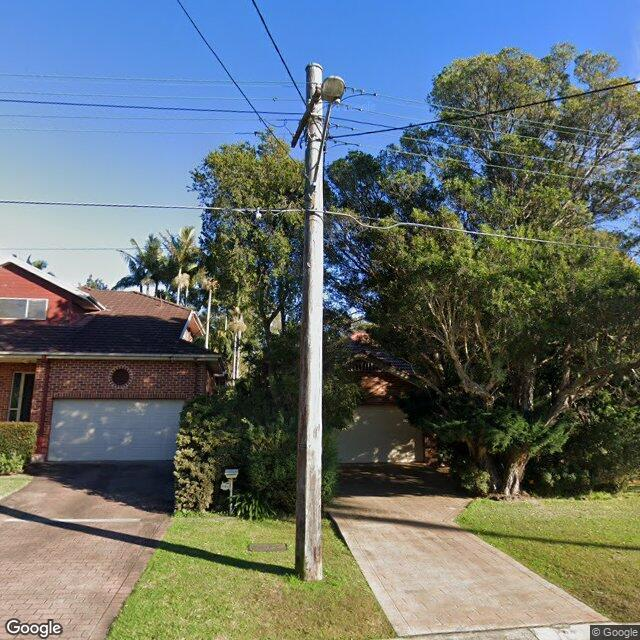crossarm: (291, 87, 322, 150)
streetlight: (310, 76, 348, 190)
timber-pole: (295, 63, 322, 581)
